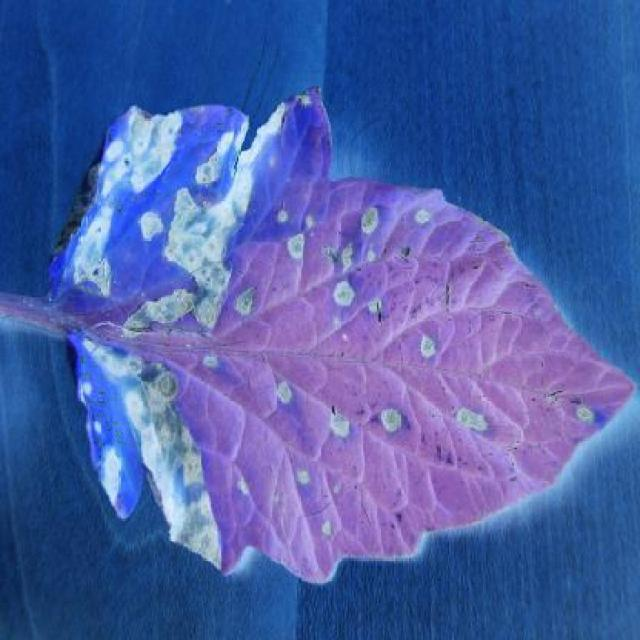Septoria leaf spot: (42, 75, 638, 613)
